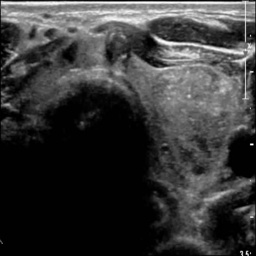mass: (102, 30, 131, 73)
